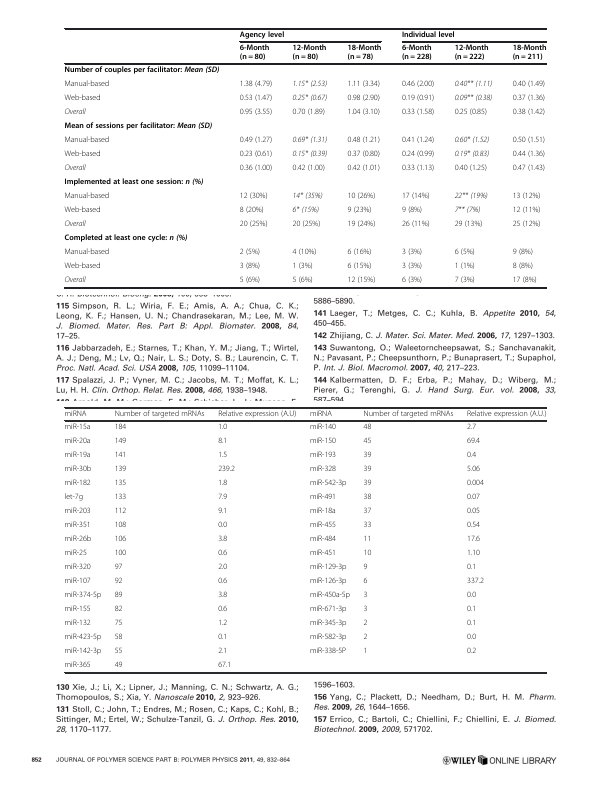borderless: (63, 406, 546, 672), (63, 27, 546, 287)
cell: (64, 66, 220, 76), (64, 122, 213, 132), (64, 178, 204, 188), (64, 234, 188, 244), (362, 410, 454, 419), (114, 410, 205, 419), (466, 410, 547, 419), (217, 410, 297, 419), (292, 44, 327, 63), (347, 44, 382, 63), (454, 44, 489, 63), (512, 44, 547, 63), (401, 44, 433, 63), (239, 44, 270, 63), (401, 31, 456, 40), (309, 591, 351, 601), (239, 31, 285, 40), (64, 80, 110, 89), (64, 136, 110, 145), (64, 192, 110, 201), (64, 248, 110, 257), (309, 479, 347, 489), (309, 563, 347, 573), (309, 577, 347, 587), (64, 591, 102, 601), (309, 605, 347, 615), (309, 619, 347, 629), (64, 633, 102, 643), (309, 633, 347, 643), (64, 647, 102, 657), (309, 647, 347, 657), (454, 80, 493, 89), (454, 94, 493, 103), (64, 94, 101, 103), (64, 150, 101, 159), (64, 206, 101, 215), (64, 262, 101, 271), (292, 80, 328, 89), (292, 94, 328, 103), (292, 136, 328, 145), (454, 136, 490, 145), (292, 150, 328, 159), (454, 150, 490, 159), (454, 192, 489, 201), (239, 80, 273, 89), (347, 80, 381, 89), (401, 80, 435, 89), (512, 80, 546, 89), (239, 94, 273, 103), (347, 94, 381, 103), (401, 94, 435, 103), (512, 94, 546, 103), (239, 108, 273, 117), (292, 108, 326, 117), (347, 108, 381, 117), (401, 108, 435, 117), (454, 108, 488, 117), (512, 108, 546, 117), (239, 136, 273, 145), (347, 136, 381, 145), (401, 136, 435, 145), (512, 136, 546, 145), (239, 150, 273, 159), (347, 150, 381, 159), (401, 150, 435, 159), (512, 150, 546, 159), (239, 164, 273, 173), (292, 164, 326, 173), (347, 164, 381, 173), (401, 164, 435, 173), (454, 164, 488, 173), (512, 164, 546, 173), (309, 423, 337, 433), (309, 437, 337, 447), (309, 451, 337, 461), (64, 465, 92, 475), (309, 465, 337, 475), (309, 493, 337, 503), (309, 507, 337, 517), (309, 521, 337, 531), (64, 535, 92, 545), (309, 535, 337, 545), (309, 549, 337, 559), (292, 192, 323, 201), (64, 423, 91, 433), (64, 437, 91, 447), (64, 451, 91, 461), (64, 479, 91, 489), (64, 507, 91, 517), (64, 521, 91, 531), (64, 563, 91, 573), (64, 577, 91, 587), (64, 605, 91, 615), (64, 619, 91, 629), (64, 661, 91, 671), (401, 192, 431, 201), (401, 220, 431, 229), (239, 192, 268, 201), (347, 192, 376, 201), (512, 192, 541, 201), (512, 206, 541, 215), (239, 220, 268, 229), (292, 220, 321, 229), (347, 220, 376, 229), (454, 220, 483, 229), (512, 220, 541, 229), (347, 276, 376, 285), (292, 206, 320, 215), (454, 206, 481, 215), (64, 549, 88, 559), (239, 206, 265, 215), (512, 276, 538, 285), (347, 206, 372, 215), (292, 248, 317, 257), (347, 248, 372, 257), (347, 262, 372, 271), (309, 410, 333, 419), (64, 410, 87, 419), (64, 108, 87, 117), (64, 164, 87, 173), (64, 220, 87, 229), (64, 276, 87, 285), (64, 493, 84, 503), (401, 206, 423, 215), (239, 248, 261, 257), (401, 248, 423, 257), (454, 248, 476, 257), (512, 248, 534, 257), (239, 262, 261, 271), (292, 262, 314, 271), (401, 262, 423, 271), (454, 262, 476, 271), (512, 262, 534, 271), (239, 276, 261, 285), (292, 276, 314, 285), (401, 276, 423, 285), (454, 276, 476, 285), (217, 465, 236, 475), (466, 479, 485, 489), (466, 577, 485, 587), (466, 437, 481, 447), (466, 465, 481, 475), (466, 493, 481, 503), (466, 507, 481, 517), (466, 521, 481, 531), (466, 535, 481, 545), (466, 549, 481, 559), (217, 661, 232, 671), (114, 423, 127, 433), (114, 437, 127, 447), (114, 451, 127, 461), (114, 465, 127, 475), (114, 479, 127, 489), (114, 493, 127, 503), (114, 507, 127, 517), (114, 521, 127, 531), (114, 535, 127, 545), (114, 549, 127, 559), (217, 423, 228, 433), (466, 423, 477, 433), (217, 437, 228, 447), (217, 451, 228, 461), (466, 451, 477, 461), (217, 479, 228, 489), (217, 493, 228, 503), (217, 507, 228, 517), (217, 521, 228, 531), (217, 535, 228, 545), (217, 549, 228, 559), (217, 563, 228, 573), (466, 563, 477, 573), (217, 577, 228, 587), (217, 591, 228, 601), (466, 591, 477, 601), (217, 605, 228, 615), (466, 605, 477, 615), (217, 619, 228, 629), (466, 619, 477, 629), (217, 633, 228, 643), (466, 633, 477, 643), (217, 647, 228, 657), (466, 647, 477, 657), (362, 423, 372, 433), (362, 437, 372, 447), (362, 451, 372, 461), (362, 465, 372, 475), (362, 479, 372, 489), (362, 493, 372, 503), (362, 507, 372, 517), (362, 521, 372, 531), (362, 535, 372, 545), (362, 549, 372, 559), (114, 563, 123, 573), (114, 577, 123, 587), (114, 591, 123, 601), (114, 605, 123, 615), (114, 619, 123, 629), (114, 633, 123, 643), (114, 647, 123, 657), (114, 661, 123, 671), (362, 563, 368, 573), (362, 577, 368, 587), (362, 591, 368, 601), (362, 605, 368, 615), (362, 619, 368, 629), (362, 633, 368, 643), (362, 647, 368, 657)
